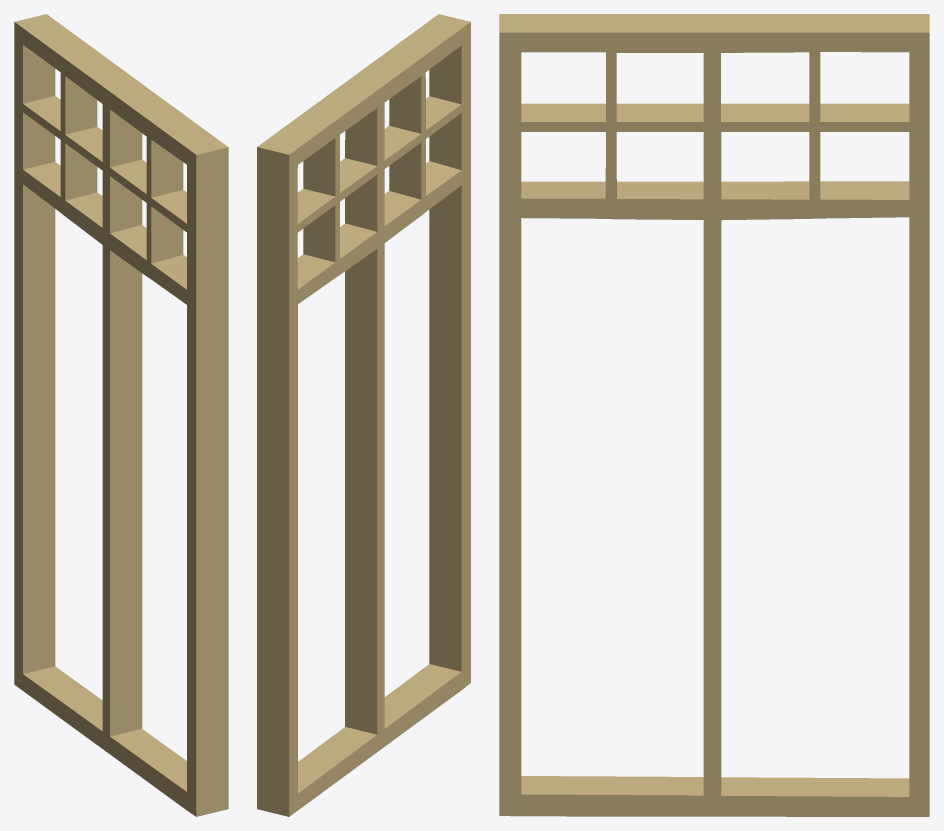
The model's file is doorway .fbx.
3 views of the same model, side by side, from view 1: azimuth 30°, elevation 25°; view 2: azimuth 150°, elevation 25°; view 3: azimuth 270°, elevation 25° (orthographic). The views are drawn at different scales.
Visible parts, largest first — view 1: pCube6; view 2: pCube6; view 3: pCube6.
Boxes of the visible parts, x1=… form: pCube6: x1=14, y1=14, x2=228, y2=816; pCube6: x1=257, y1=14, x2=470, y2=816; pCube6: x1=499, y1=14, x2=929, y2=816.
Size of the model in its own units: 5.5 by 108 by 53.89.
